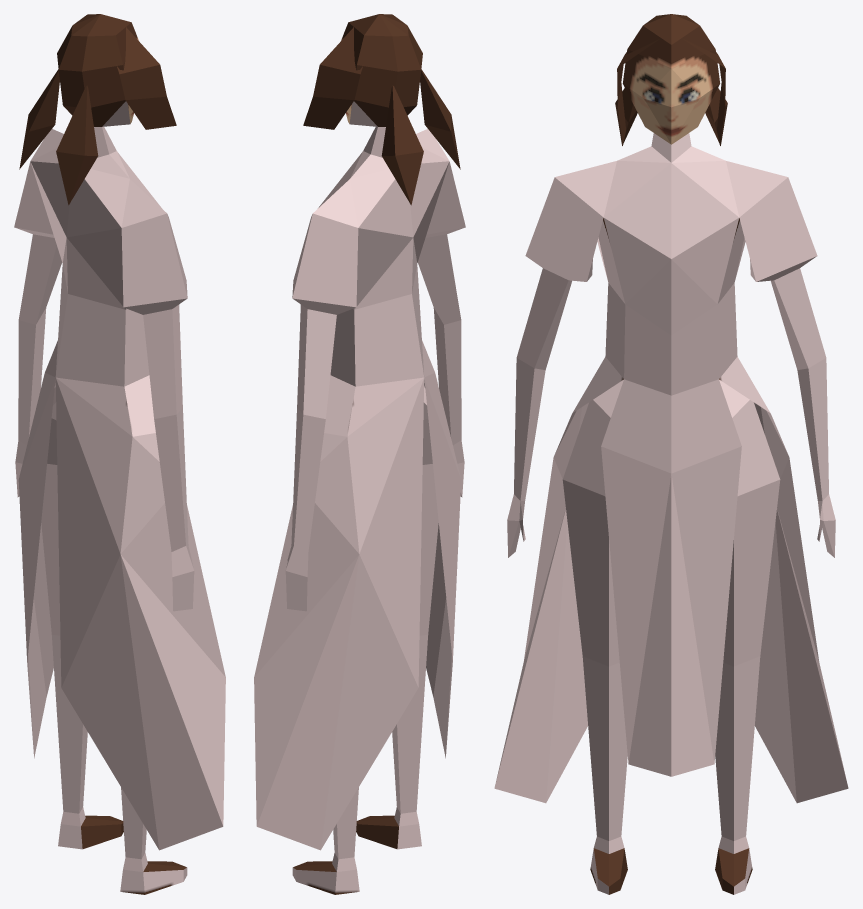
File: 256_woman_in_coat_test.fbx
3 renders of one model, left to right at view 1: azimuth 30°, elevation 25°; view 2: azimuth 150°, elevation 25°; view 3: azimuth 270°, elevation 25°, orthographic.
Parts seen in each view (by area): view 1: Cylinder; view 2: Cylinder; view 3: Cylinder.
Boxes of the visible parts, x1,y1,x2,y2 form: Cylinder: (14, 14, 225, 894); Cylinder: (254, 14, 465, 894); Cylinder: (494, 14, 848, 894).
Bounding box in the file's own units: 106 × 592 × 222.
